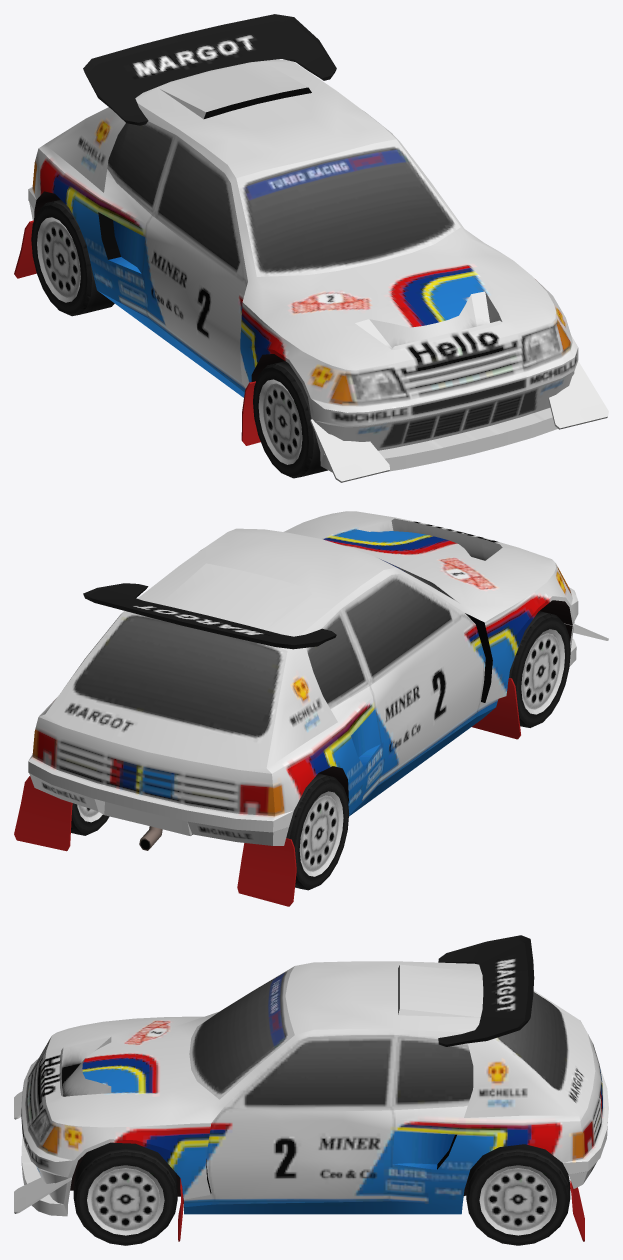
Rendered from peugeot_205.glb.
3 renders of one model, top to bottom at view 1: azimuth 30°, elevation 25°; view 2: azimuth 150°, elevation 25°; view 3: azimuth 270°, elevation 25°, orthographic. The views are drawn at different scales.
Visible parts, largest first — view 1: Peugeot 205, L_front_wheel_geo #370579.010, L_front_wheel_geo #370579.011; view 2: Peugeot 205, L_front_wheel_geo #370579.011, L_front_wheel_geo #370579.010, L_front_wheel_geo #370579.009; view 3: Peugeot 205, L_front_wheel_geo #370579.008, L_front_wheel_geo #370579.009.
Part boxes in pixels (x1,y1,x2,y2): Peugeot 205: (14, 14, 608, 482); L_front_wheel_geo #370579.010: (253, 361, 327, 478); L_front_wheel_geo #370579.011: (31, 199, 114, 316); Peugeot 205: (14, 511, 608, 906); L_front_wheel_geo #370579.011: (286, 773, 349, 890); L_front_wheel_geo #370579.010: (509, 611, 570, 727); L_front_wheel_geo #370579.009: (71, 803, 109, 835); Peugeot 205: (14, 935, 608, 1241); L_front_wheel_geo #370579.008: (73, 1142, 177, 1245); L_front_wheel_geo #370579.009: (466, 1144, 570, 1245).
Bounding box in the file's own units: 1.85 × 1.53 × 3.87.
5 materials, 5 textured.
